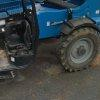Tractor: (20, 3, 100, 77)
